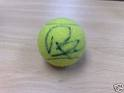tennis ball: (36, 17, 87, 69)
